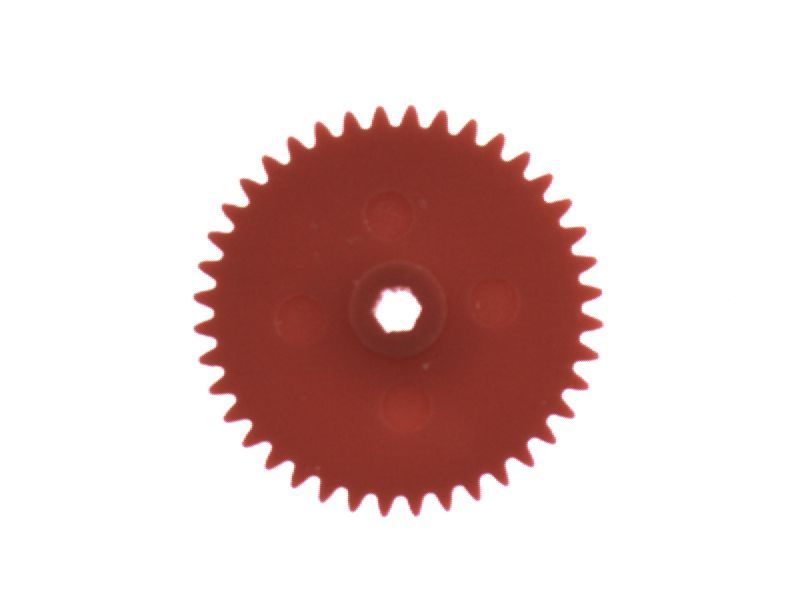good_product: (174, 90, 617, 533)
